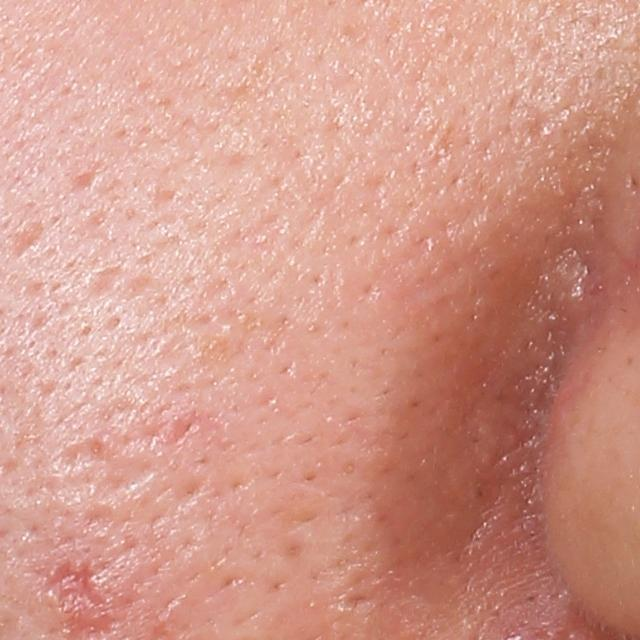atrophic_scar: (58, 435, 162, 508), (4, 214, 46, 265), (82, 262, 120, 300), (67, 164, 98, 194)
